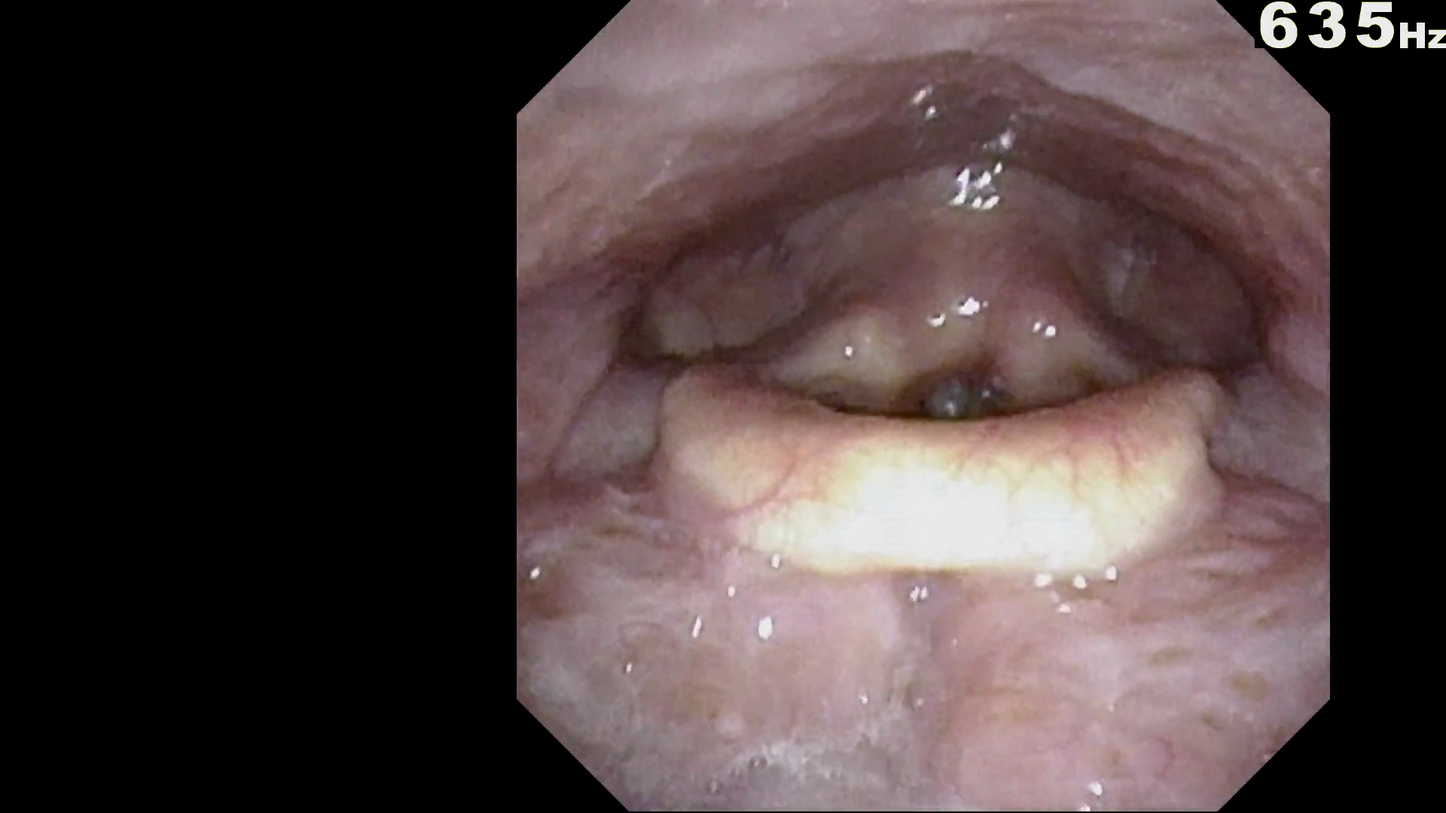epiglottis: (663, 382, 1248, 617)
